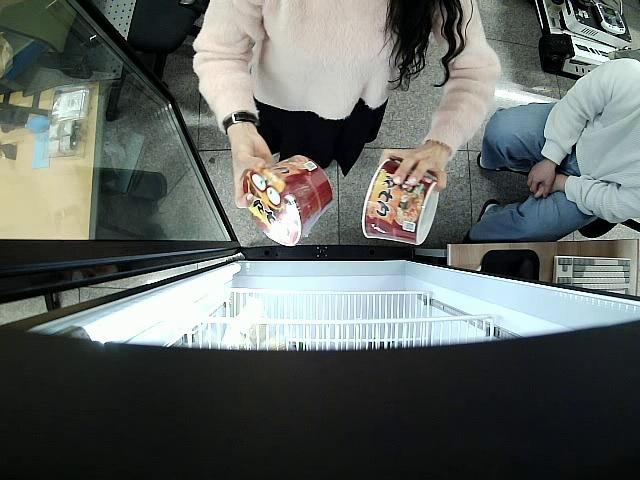05_nuguri_L: (242, 154, 335, 244), (362, 158, 440, 246)
